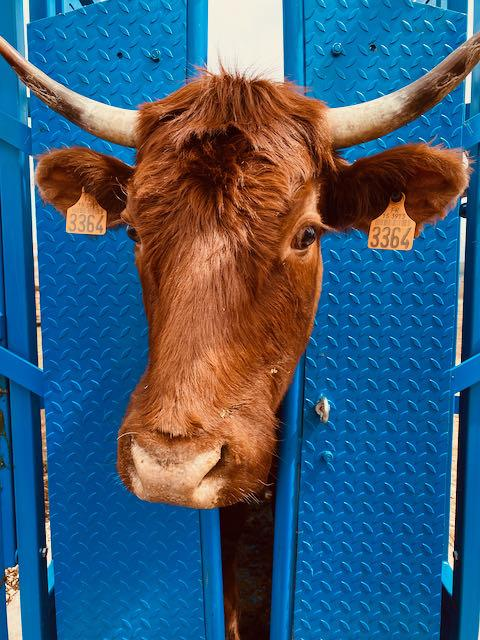muzzles: (105, 423, 289, 518)
